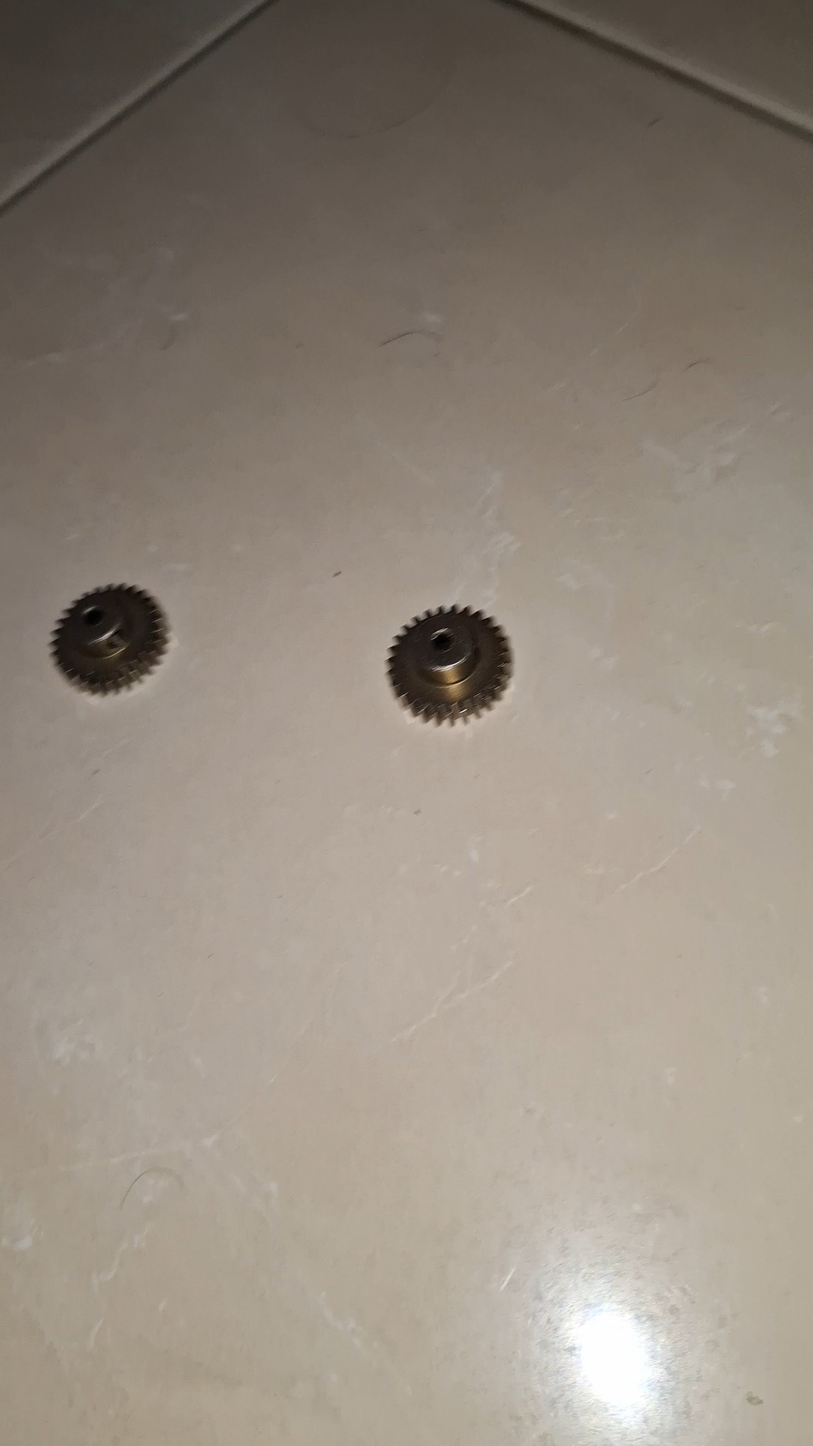spur gear: (385, 615, 509, 732), (48, 594, 163, 703)
